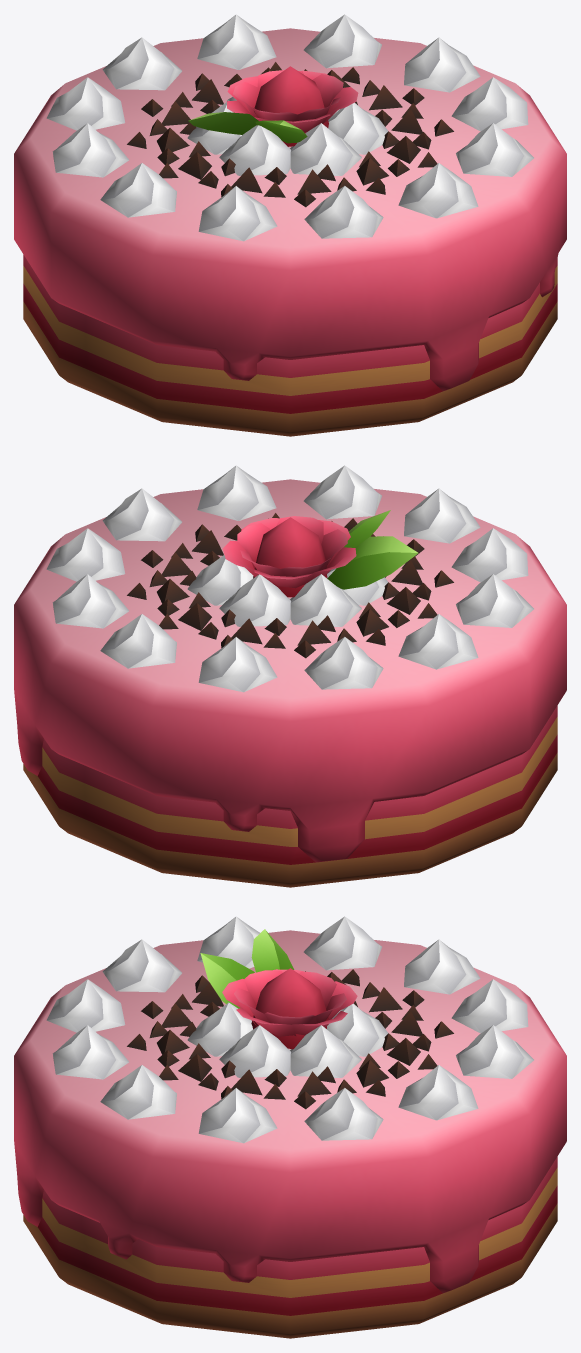
File: m_Cake03.fbx
3 renders of one model, top to bottom at view 1: azimuth 30°, elevation 25°; view 2: azimuth 150°, elevation 25°; view 3: azimuth 270°, elevation 25°, orthographic.
Visible parts, largest first — view 1: m_Cake03; view 2: m_Cake03; view 3: m_Cake03.
Part boxes in pixels (x1,y1,x2,y2): m_Cake03: (14, 14, 566, 436); m_Cake03: (14, 465, 566, 887); m_Cake03: (14, 916, 566, 1338).
Bounding box in the file's own units: 28.97 × 15.14 × 28.97.
